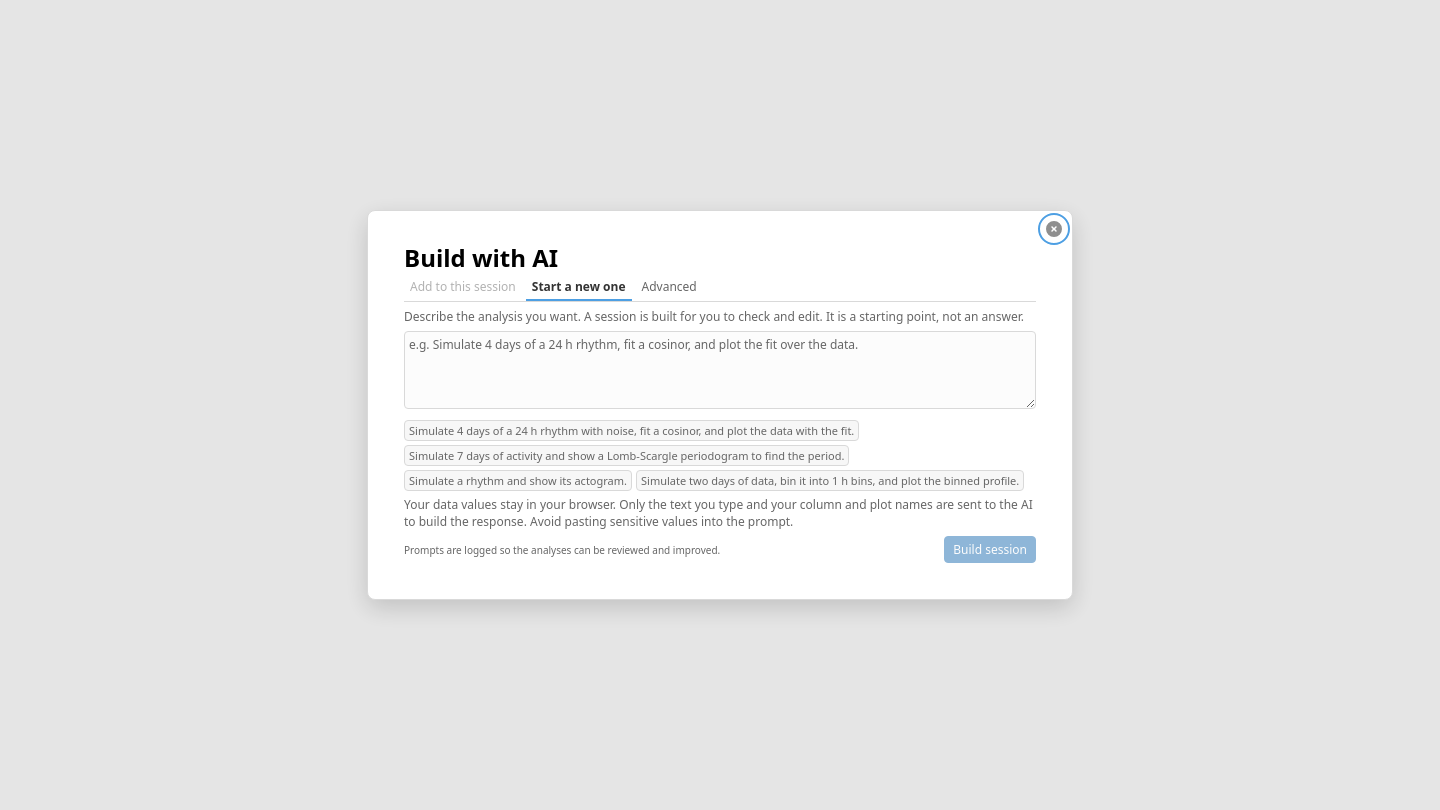
Scenario: AiPrompt: partial-success gate › a thrown failure is still reported as an error, not a gate
Replace the text in the text box with "plot an actogram" at [720, 370], box [404, 331, 1036, 409]
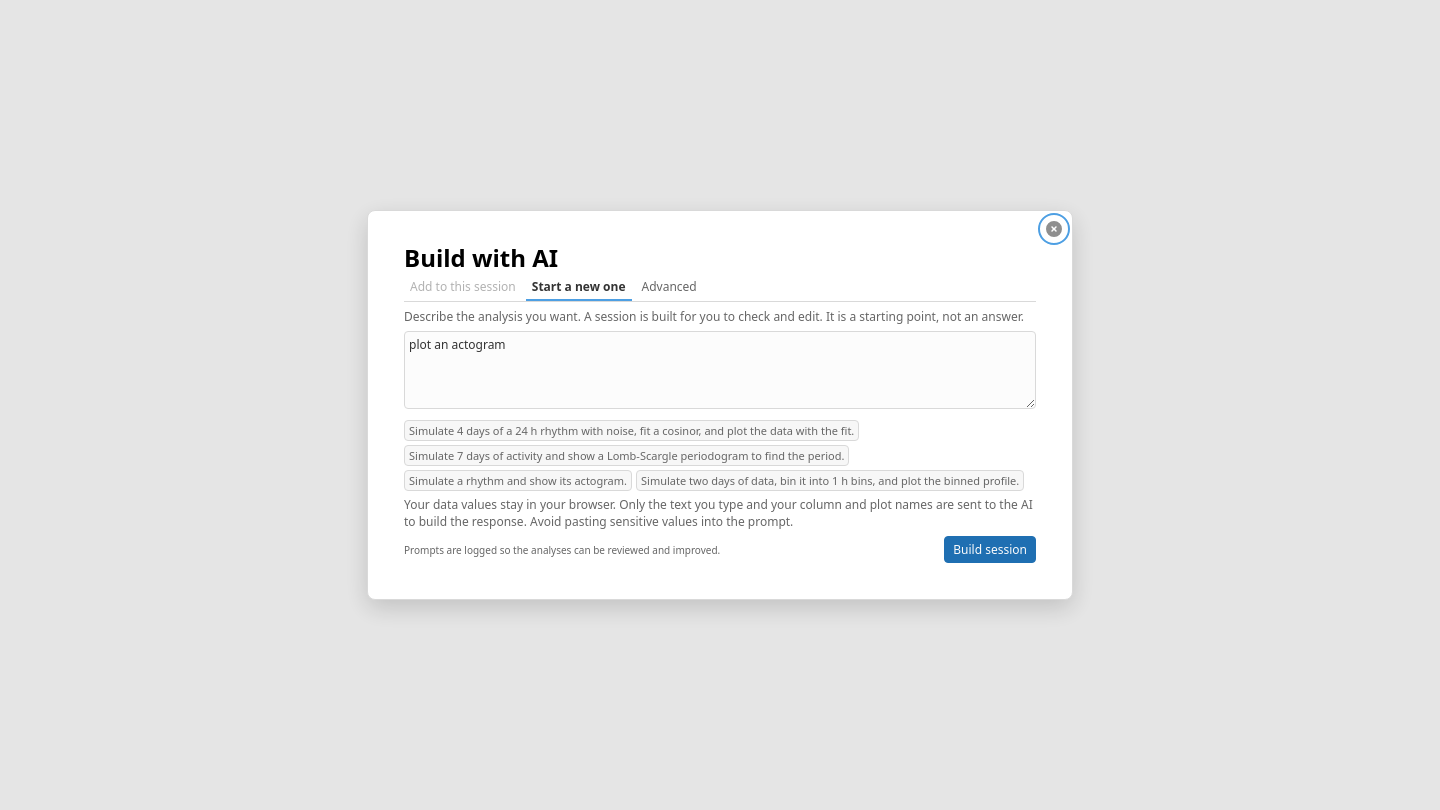
Click the button "Build session" at [990, 550], box [944, 536, 1036, 563]
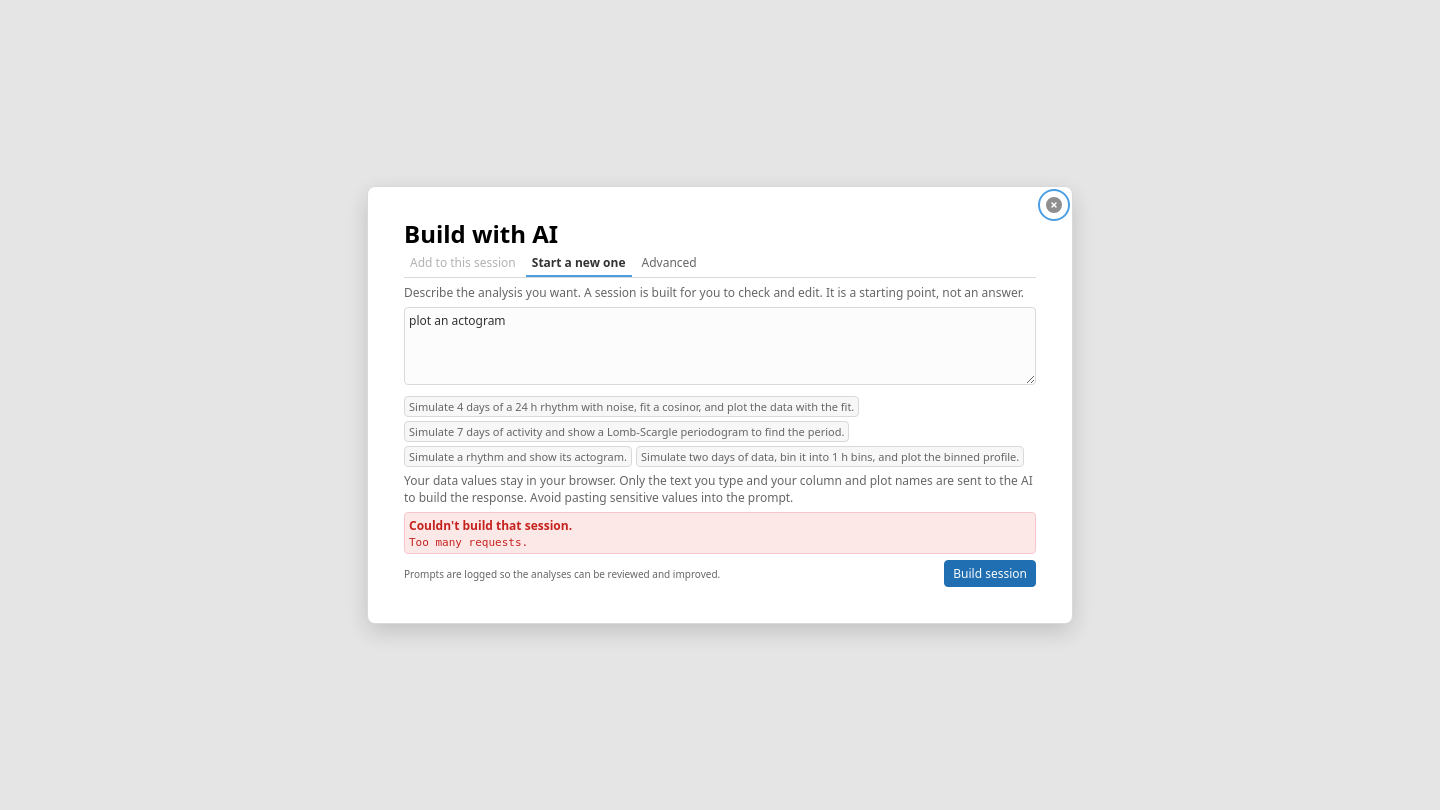
Check: the message "Couldn't build that session. Too many requests." is shown, box [404, 512, 1036, 554]
Check: the message with class "error" shows "Too many requests.", box [409, 536, 528, 549]
